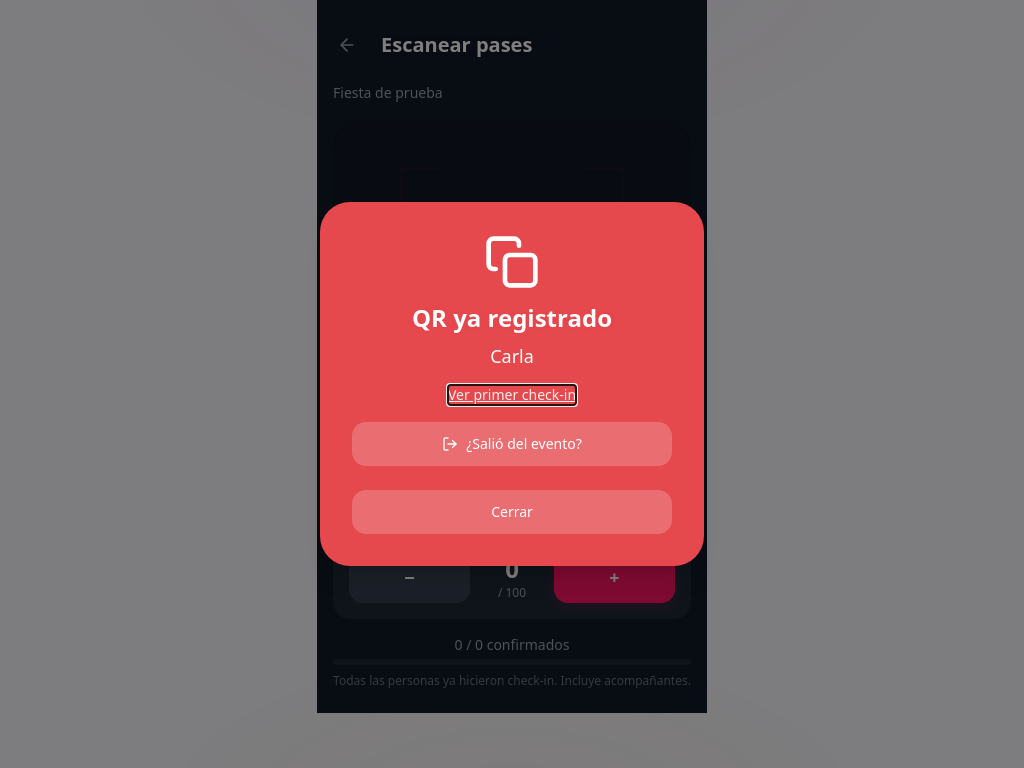
Scenario: Scanner — pantalla de resultado › un QR ya escaneado no se autocierra y deja elegir si el invitado regresa o se retira (reemplaza al escáner de salida)
expect the heading "QR ya registrado" is shown: met, box [412, 301, 612, 334]
expect the text "Carla" is shown: met, box [490, 344, 534, 368]
Click the button "¿Salió del evento?" at (512, 444), box [352, 422, 672, 466]
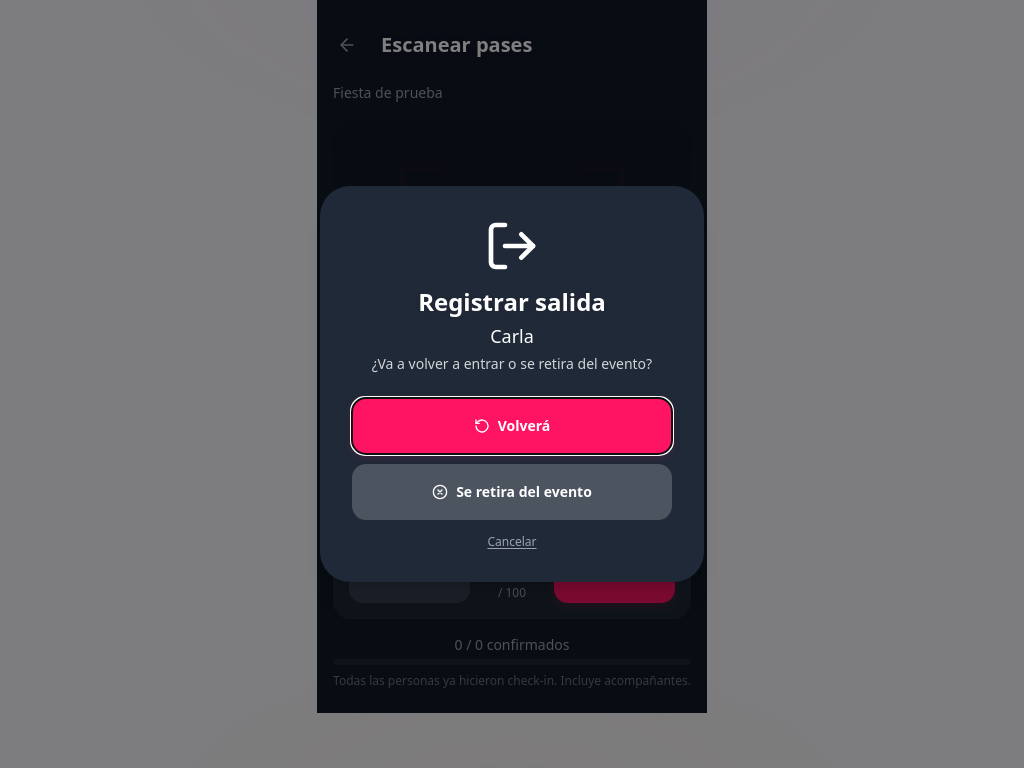
expect the text "Carla" is shown: met, box [490, 324, 534, 348]
Click the button "Volverá" at (512, 426), box [352, 398, 672, 454]
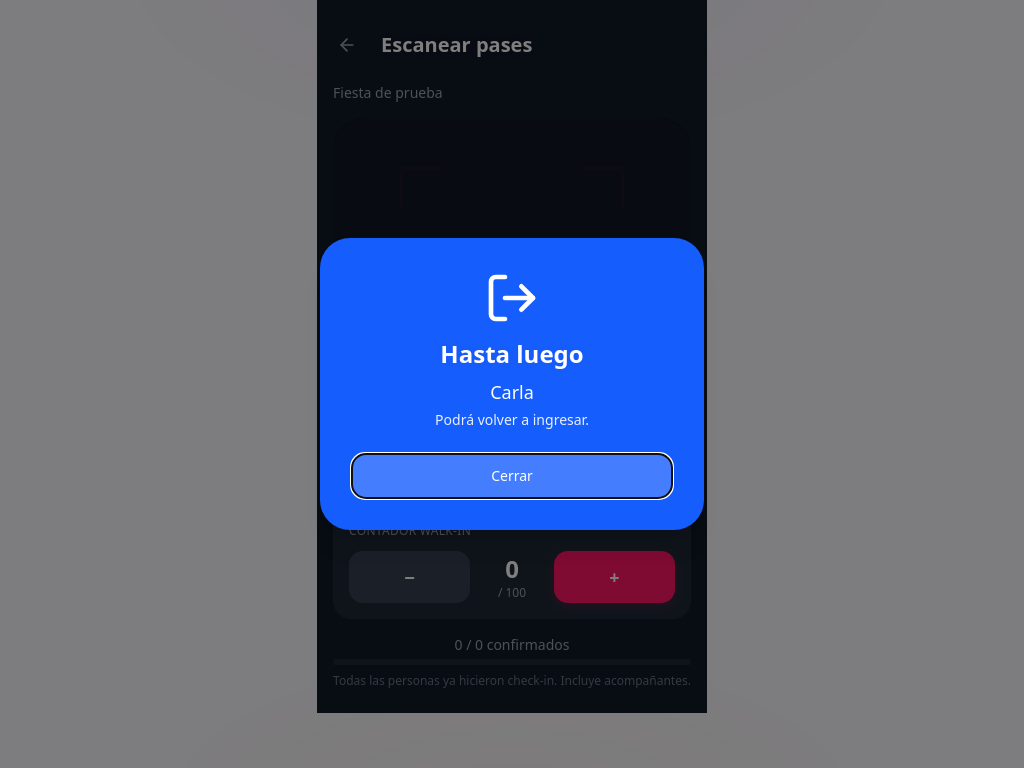
expect the heading "Hasta luego" is shown: met, box [440, 337, 584, 370]
